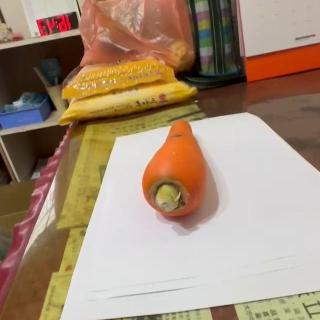carrot: (139, 119, 209, 221)
